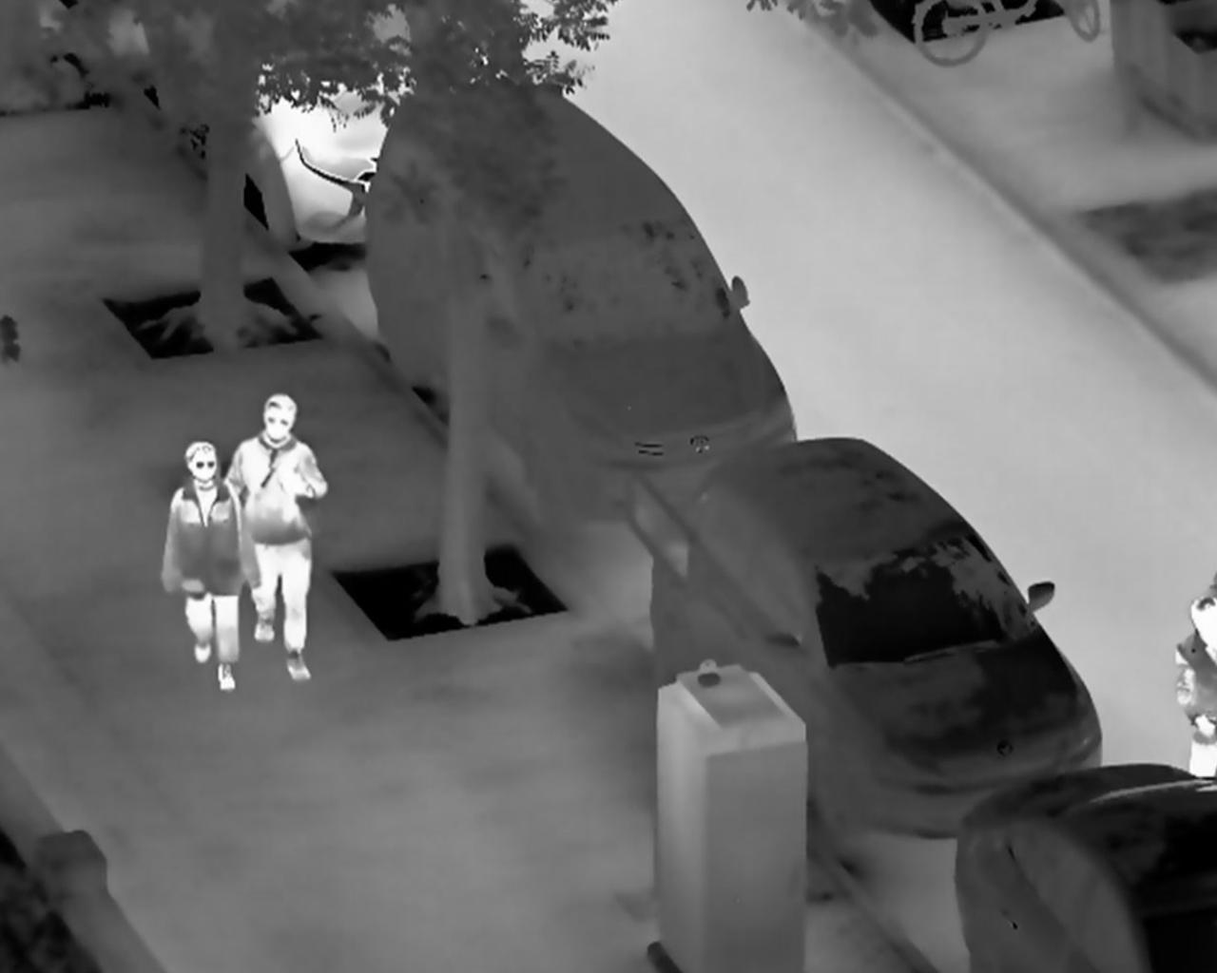person: (217, 393, 332, 689), (160, 438, 263, 691)
